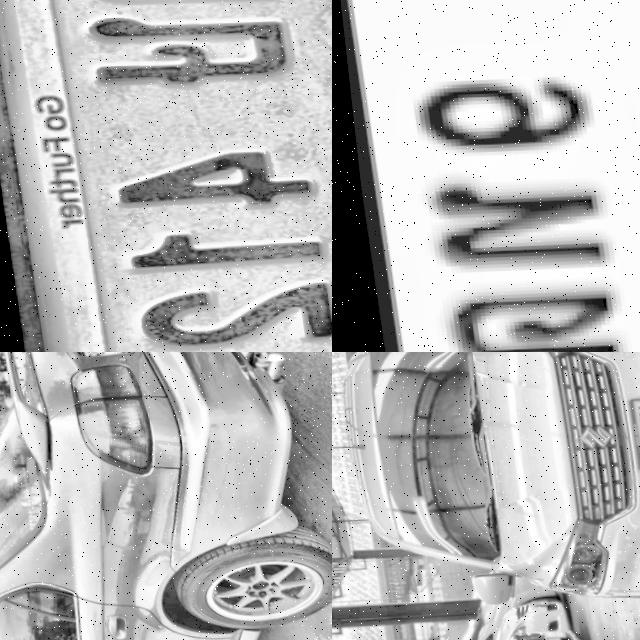license-plate: (0, 0, 332, 352), (332, 0, 640, 352), (615, 396, 640, 472), (64, 352, 130, 363), (521, 598, 538, 610)
